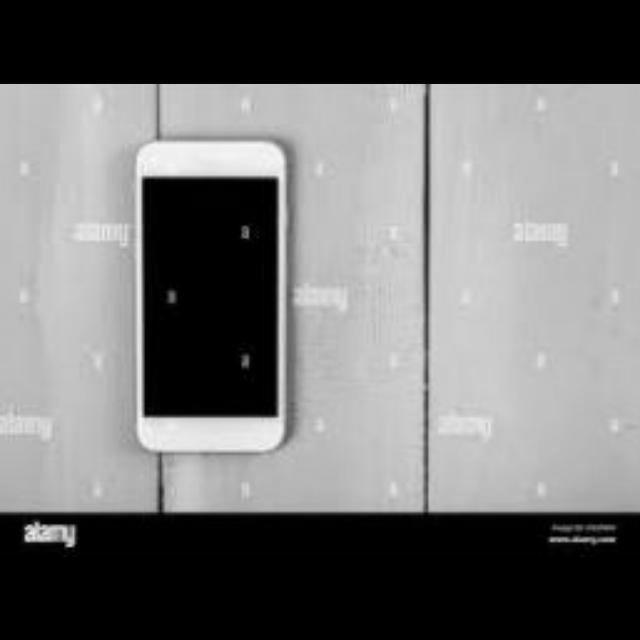fake: (136, 134, 286, 454)
